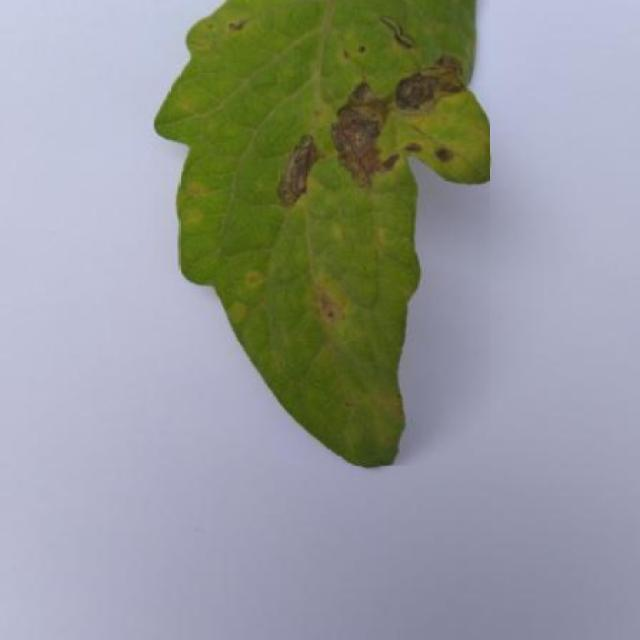Early Blight: (154, 0, 491, 466)
